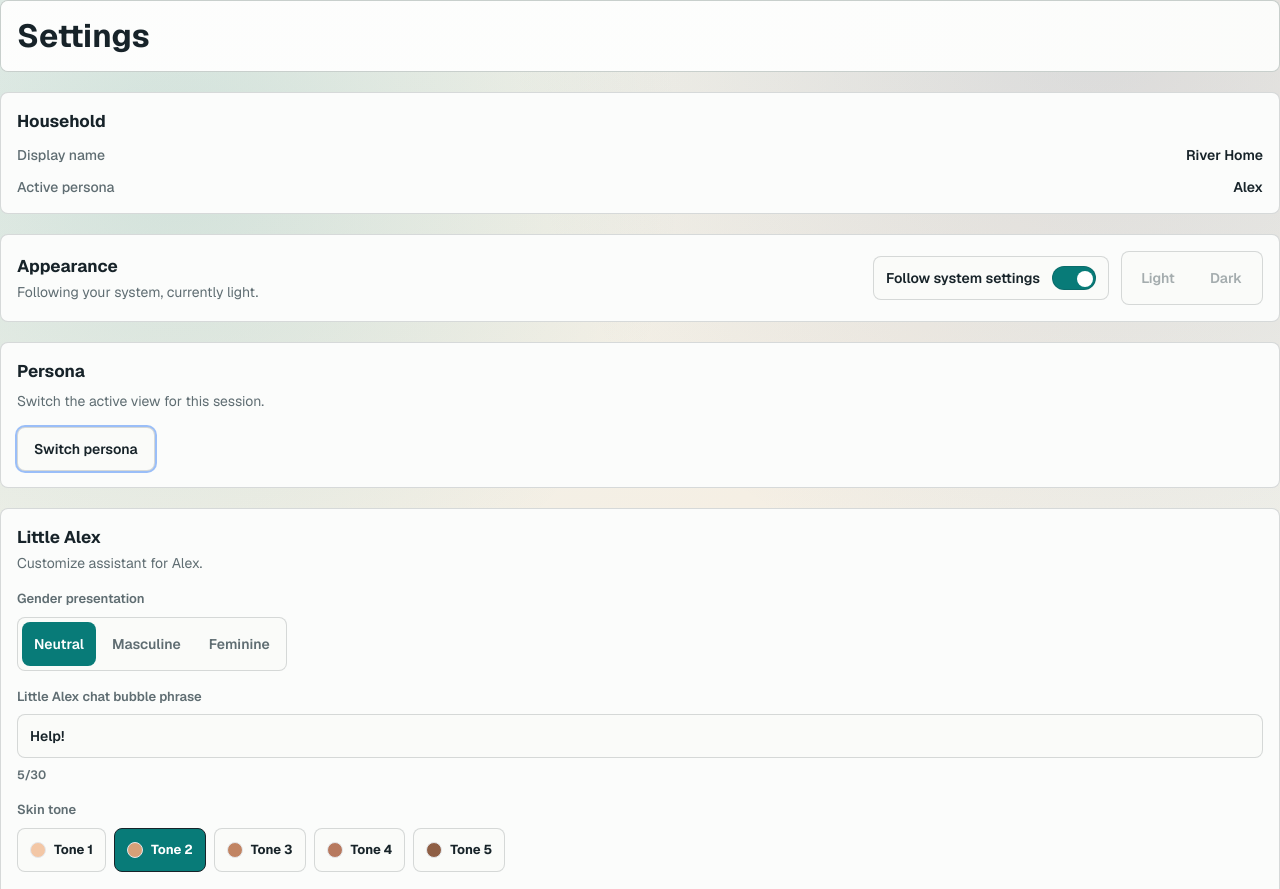
Test case: settings panel › moves focus into the persona switch dialog when opened
Click the button "Switch persona": [86, 449] box [17,427,155,471]
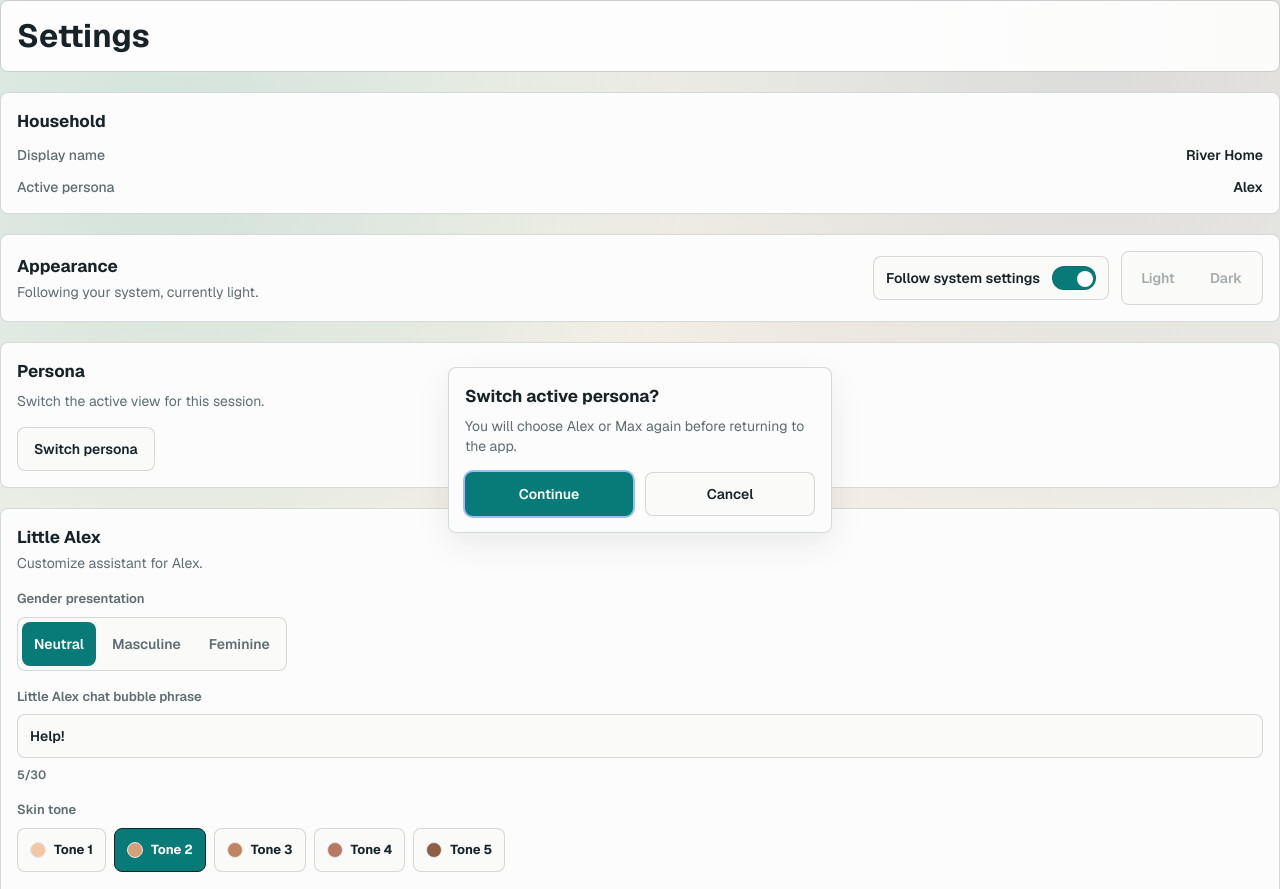
Check: the text "You will choose Alex or Max again before returning to the app." is shown, box [465,416,815,456]
